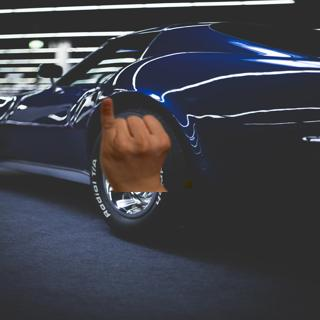FINE: (97, 96, 173, 186)
